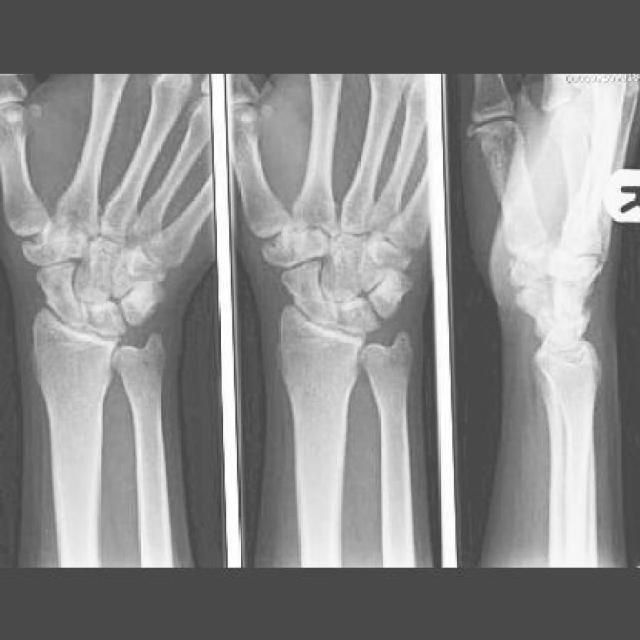Fracture: (506, 240, 557, 285), (22, 219, 67, 262), (262, 225, 305, 267)
